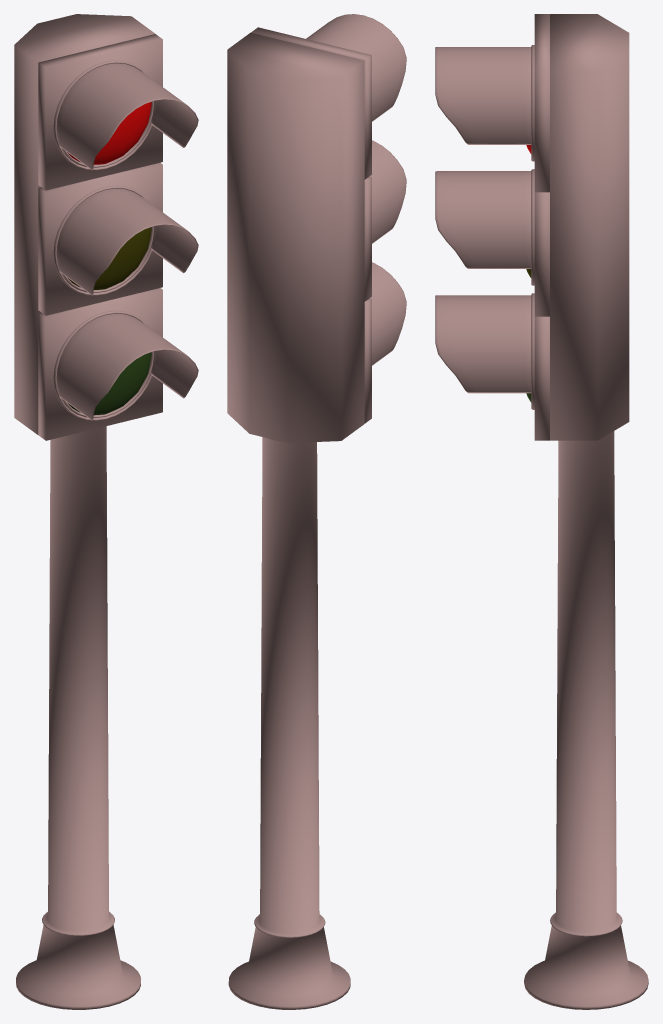
File: traffic_light_red.fbx
The picture shows the model from 3 angles, left to right: view 1: azimuth 30°, elevation 25°; view 2: azimuth 150°, elevation 25°; view 3: azimuth 270°, elevation 25°; orthographic projection. The views are drawn at different scales.
Parts seen in each view (by area): view 1: base_Cylinder, big_box_Cube, circle_cover_Sphere.002, lights_Sphere.008, circles_Sphere.009; view 2: big_box_Cube, base_Cylinder, circle_cover_Sphere.002; view 3: big_box_Cube, base_Cylinder, circle_cover_Sphere.002, circles_Sphere.009.
Boxes of the visible parts, x1,y1,x2,y2 form: base_Cylinder: [16, 426, 140, 1009]; big_box_Cube: [14, 14, 162, 440]; circle_cover_Sphere.002: [56, 63, 198, 420]; lights_Sphere.008: [67, 102, 151, 415]; circles_Sphere.009: [53, 60, 153, 420]; big_box_Cube: [227, 27, 371, 443]; base_Cylinder: [228, 437, 350, 1009]; circle_cover_Sphere.002: [306, 14, 406, 365]; big_box_Cube: [534, 14, 629, 440]; base_Cylinder: [524, 431, 648, 1009]; circle_cover_Sphere.002: [435, 47, 531, 393]; circles_Sphere.009: [531, 45, 534, 409].
Bounding box in the file's own units: 42.65 × 330 × 67.73.
